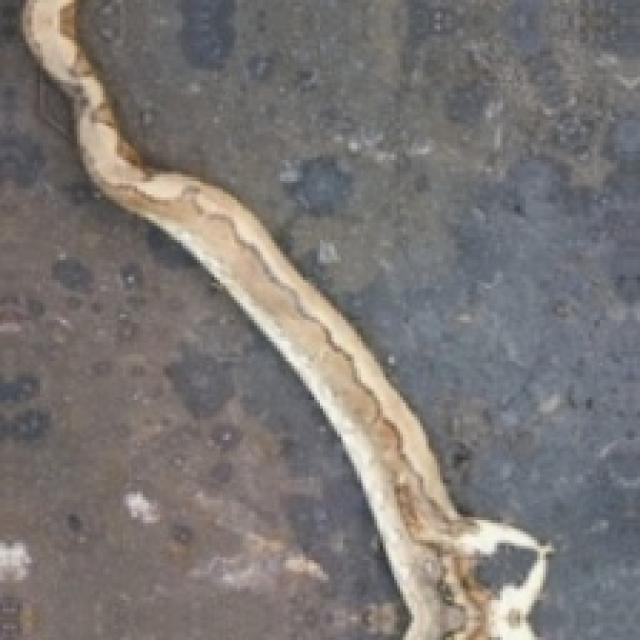reticulated python: (23, 0, 549, 637)
